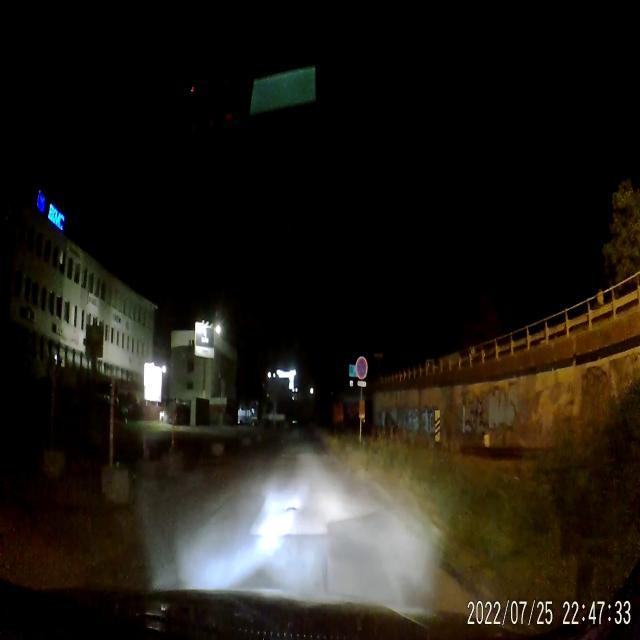Pothole: (282, 498, 302, 516)
